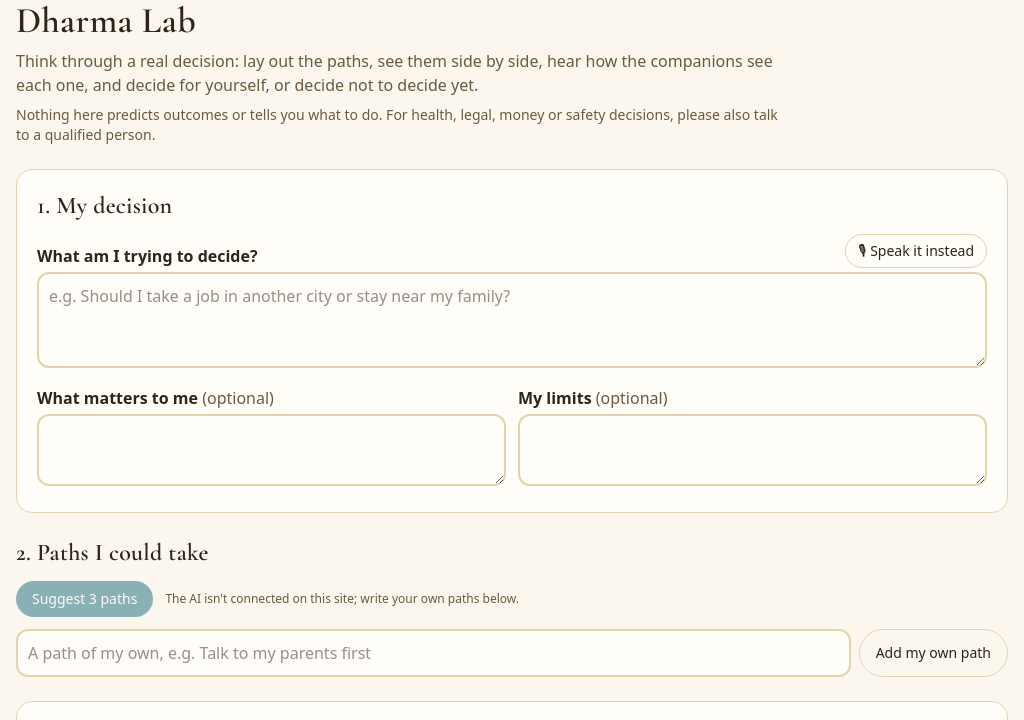
Dharma Lab › without an AI, suggestions and perspectives are unavailable but writing your own works
Expected: the button "Suggest 3 paths" is disabled, [16,581,153,617]
Expected: the text "write your own paths below" is shown, [165,590,519,607]
Step 1. Type "Option A" into the field labelled "A path of my own" → (433, 653), box [16,629,851,677]
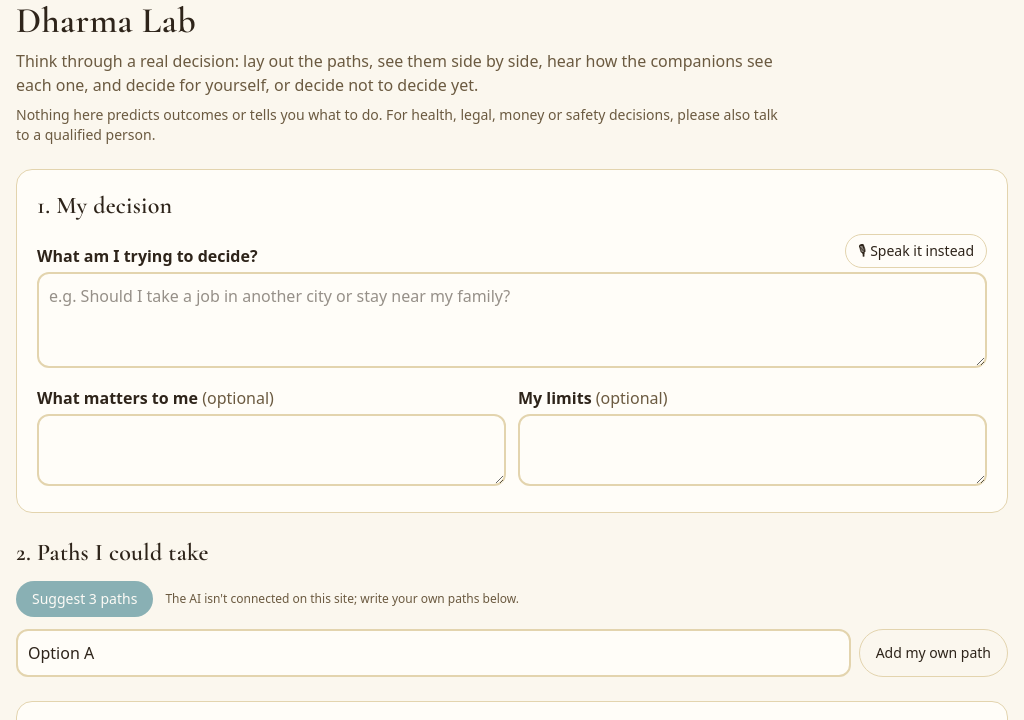
Step 2. Click the button "Add my own path" → (933, 653), box [859,629,1008,677]
(page scrolled)
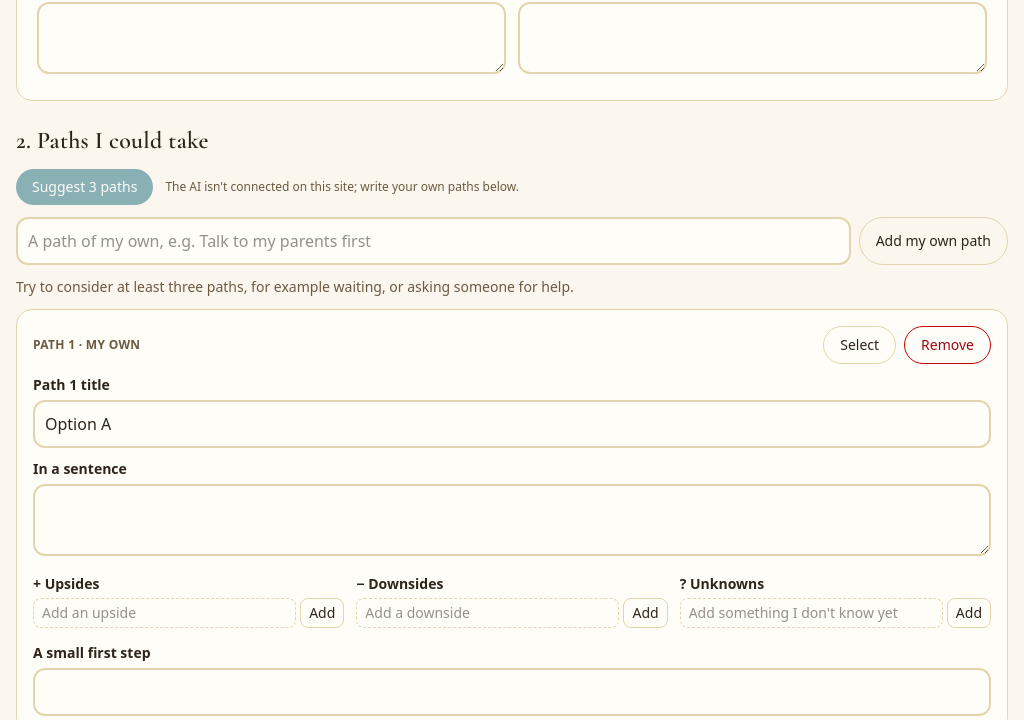
Step 3. Click the button with aria-label "Select path 1" → (860, 345), box [823,326,896,364]
(page scrolled)
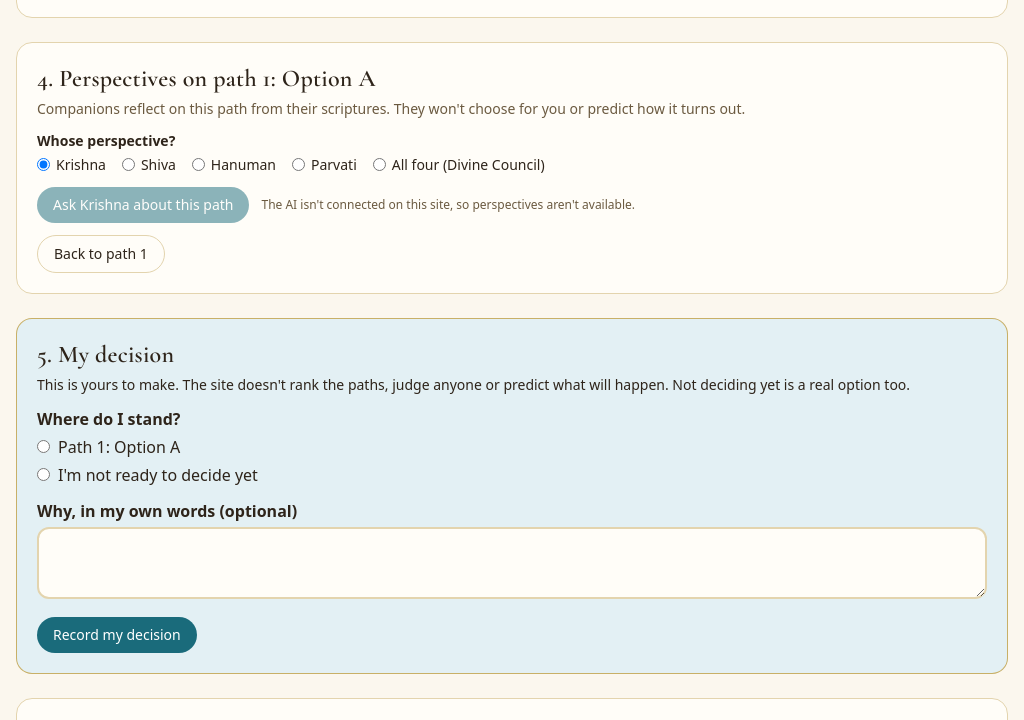
Now the button "Ask Krishna about this path" is disabled, box [37,187,250,223]
